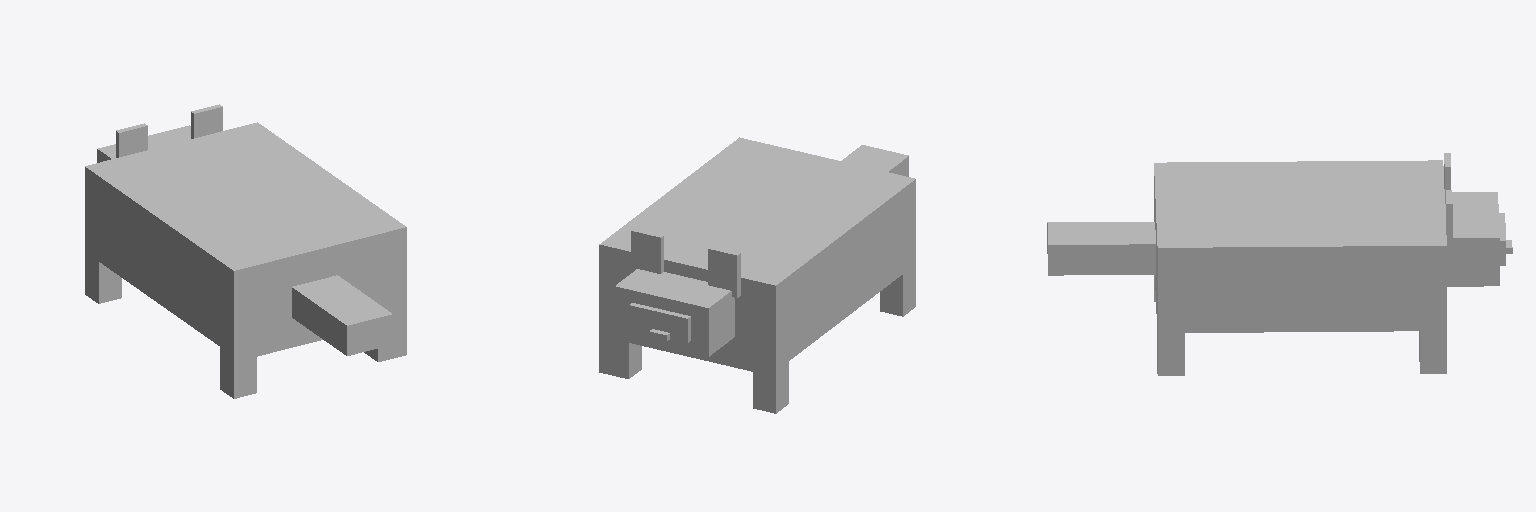
Rendered from New Raccoon.obj.
3 renders of one model, left to right at view 1: azimuth 30°, elevation 25°; view 2: azimuth 150°, elevation 25°; view 3: azimuth 270°, elevation 25°, orthographic.
Parts seen in each view (by area): view 1: Raccoon; view 2: Raccoon; view 3: Raccoon.
Part boxes in pixels (left/top/right/bottom): Raccoon: left=85, top=104, right=406, bottom=398; Raccoon: left=599, top=137, right=915, bottom=413; Raccoon: left=1047, top=153, right=1512, bottom=375.
Bounding box in the file's own units: 3.08 × 2.5 × 6.91.